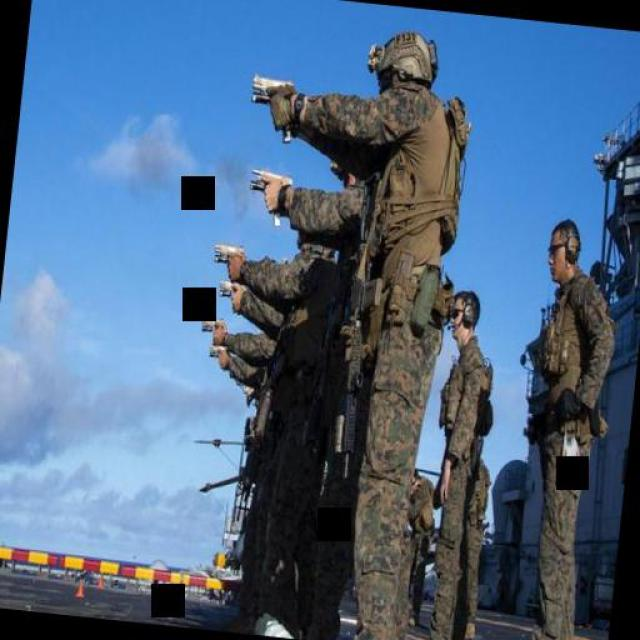gun: (244, 66, 301, 145), (244, 162, 298, 234), (210, 235, 246, 273), (198, 311, 224, 339), (216, 276, 239, 298), (206, 338, 225, 364)
